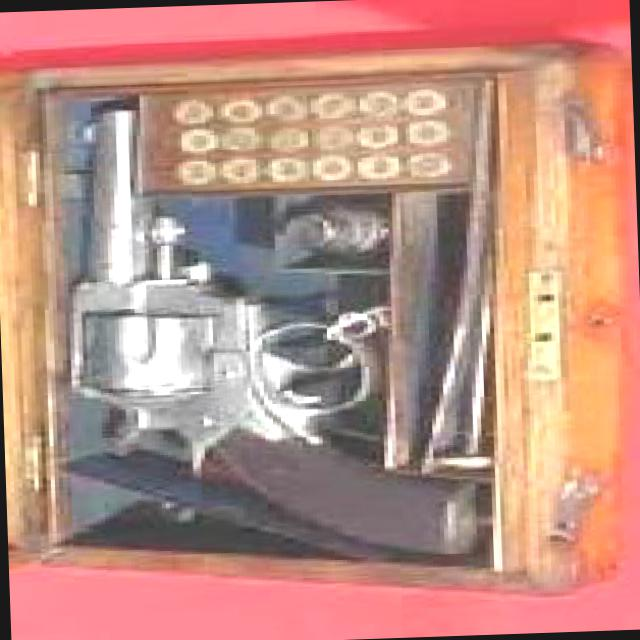handgun: (45, 93, 478, 574)
